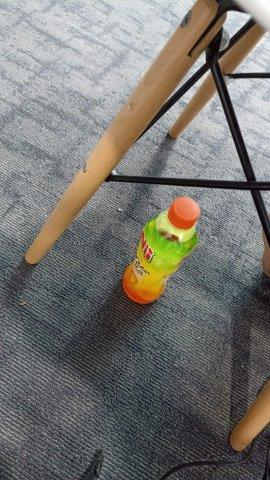botolplastik: (123, 197, 200, 304)
